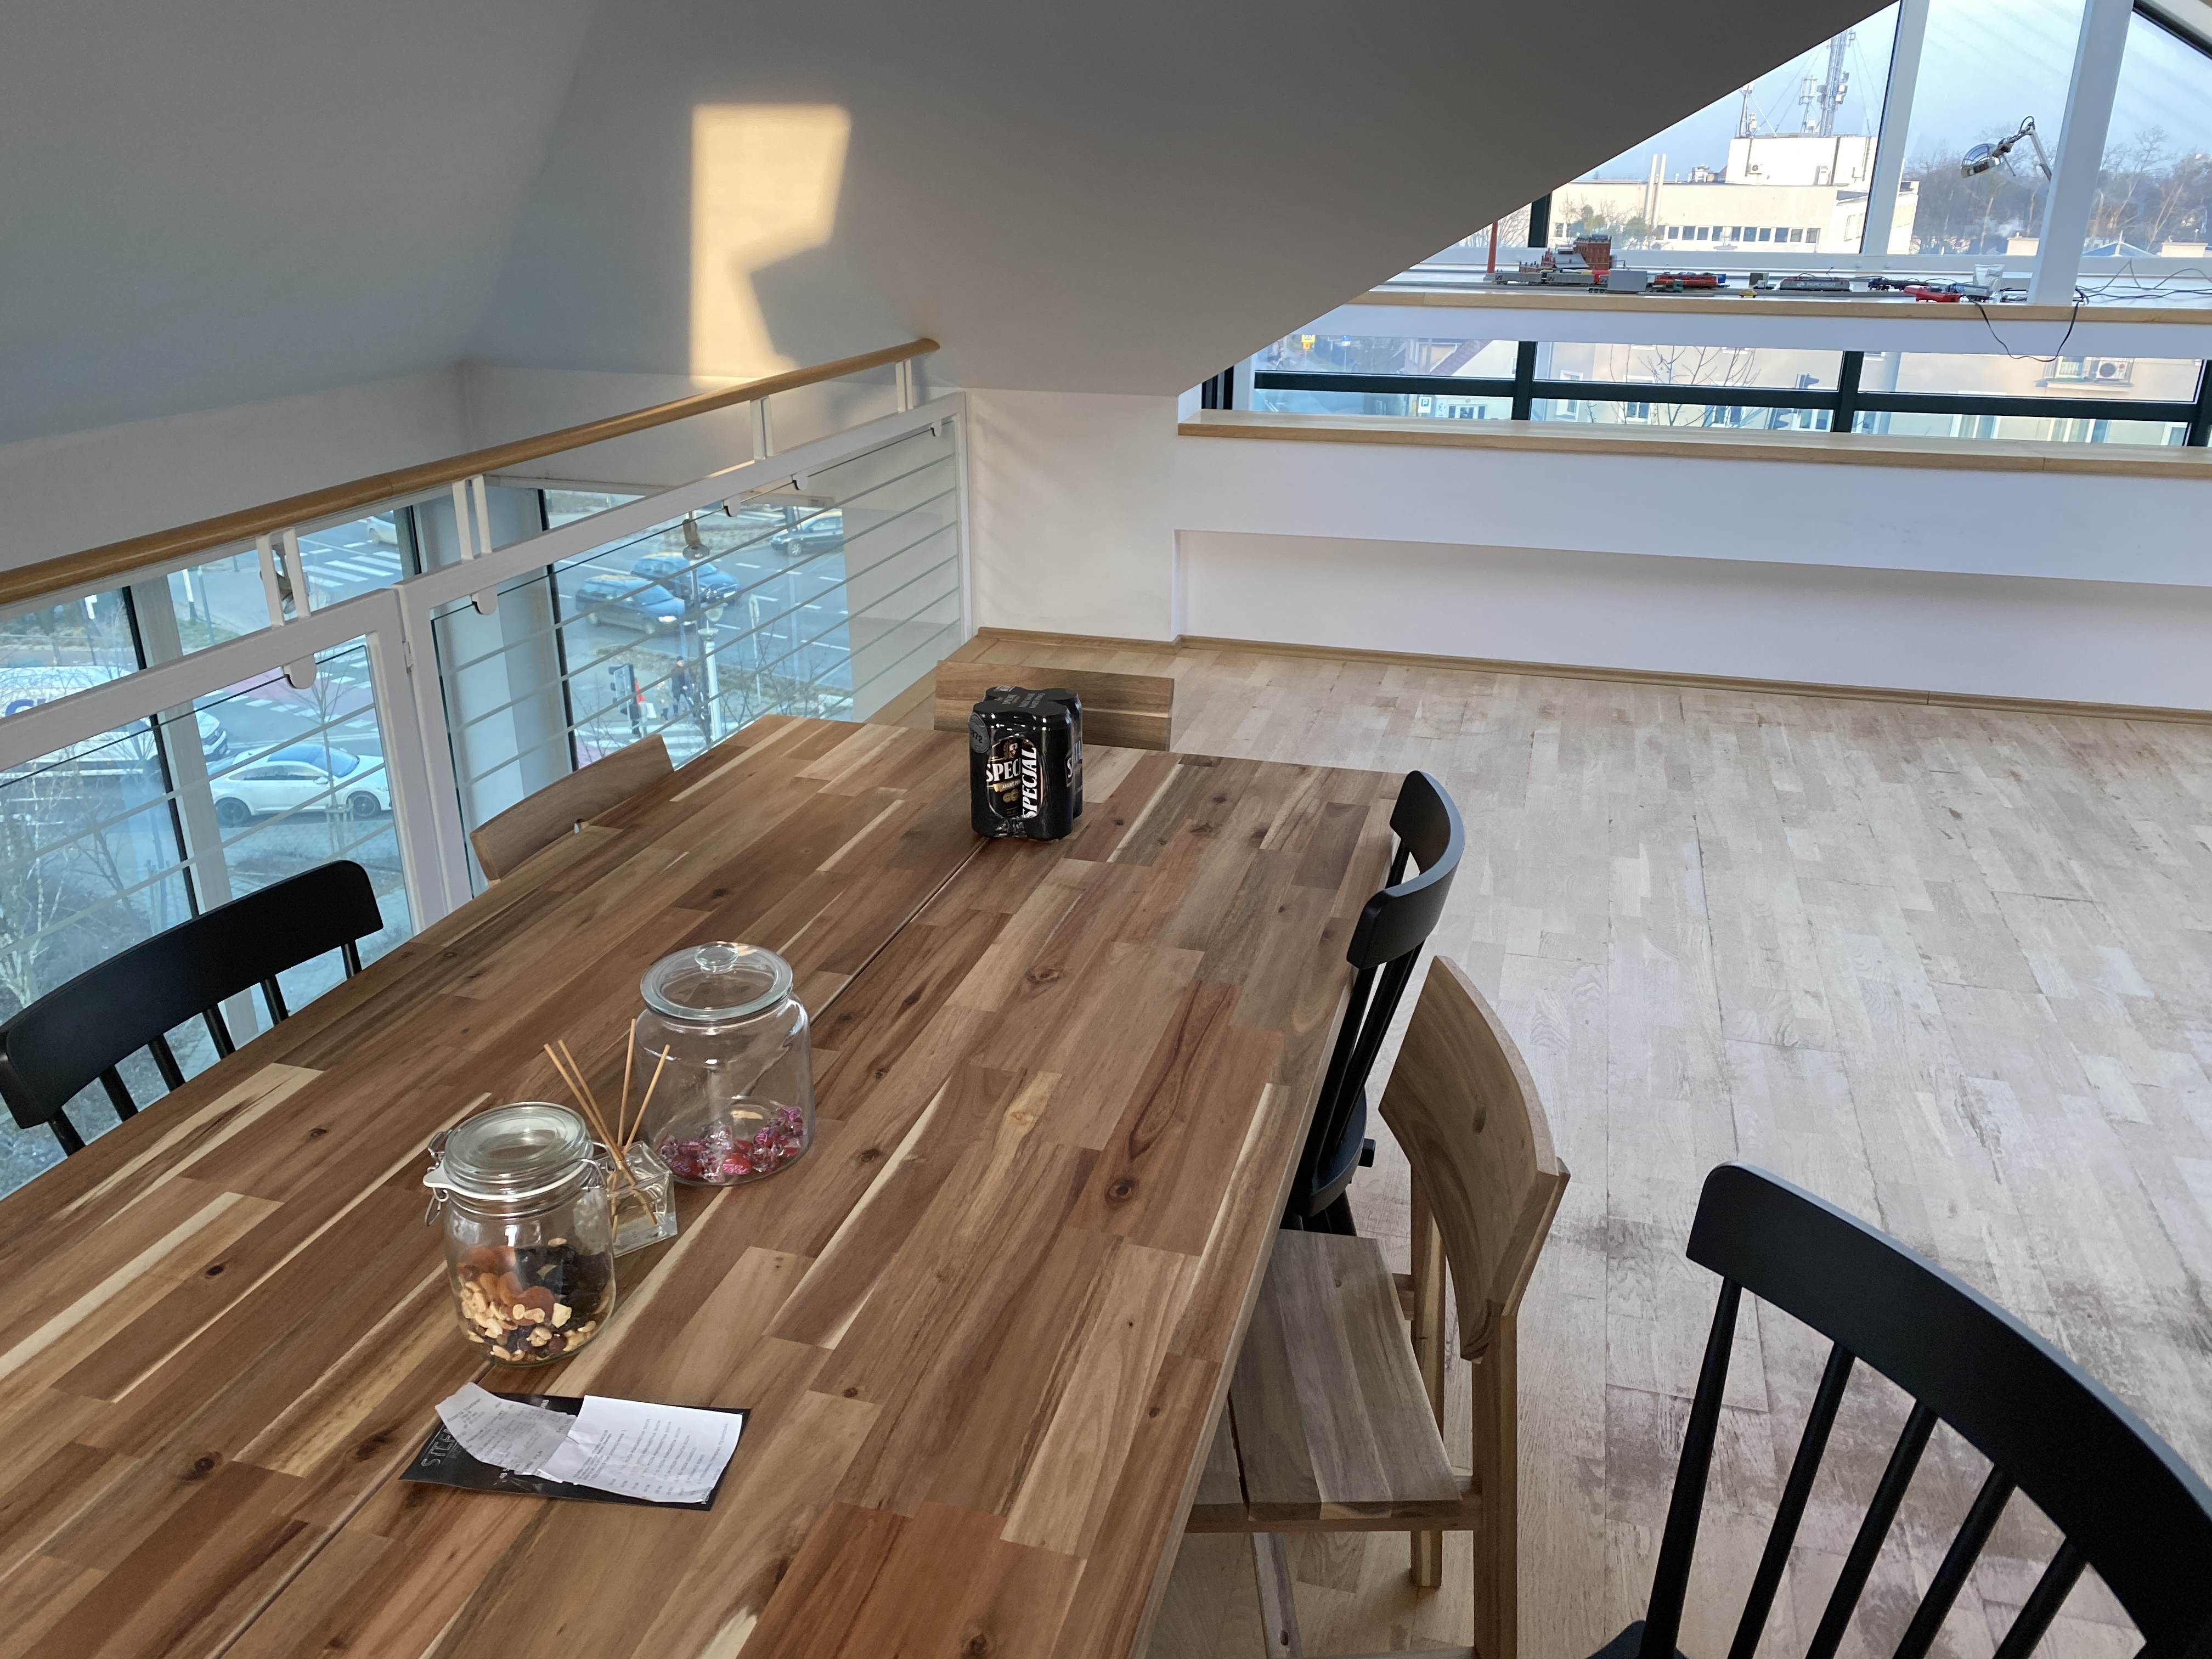specjal: (968, 683, 1087, 849)
